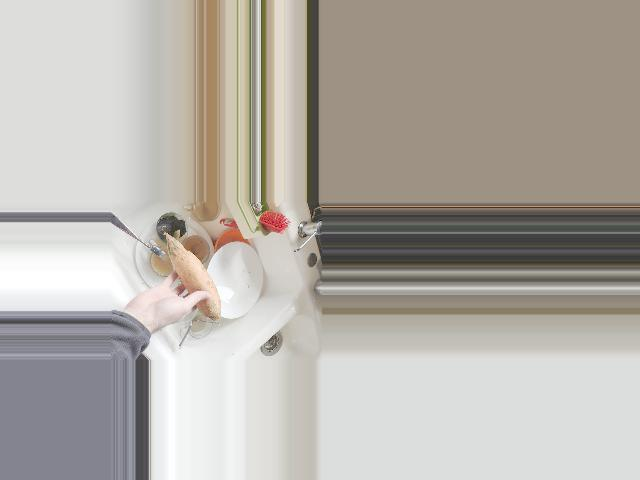sweet_potato: (161, 234, 223, 320)
